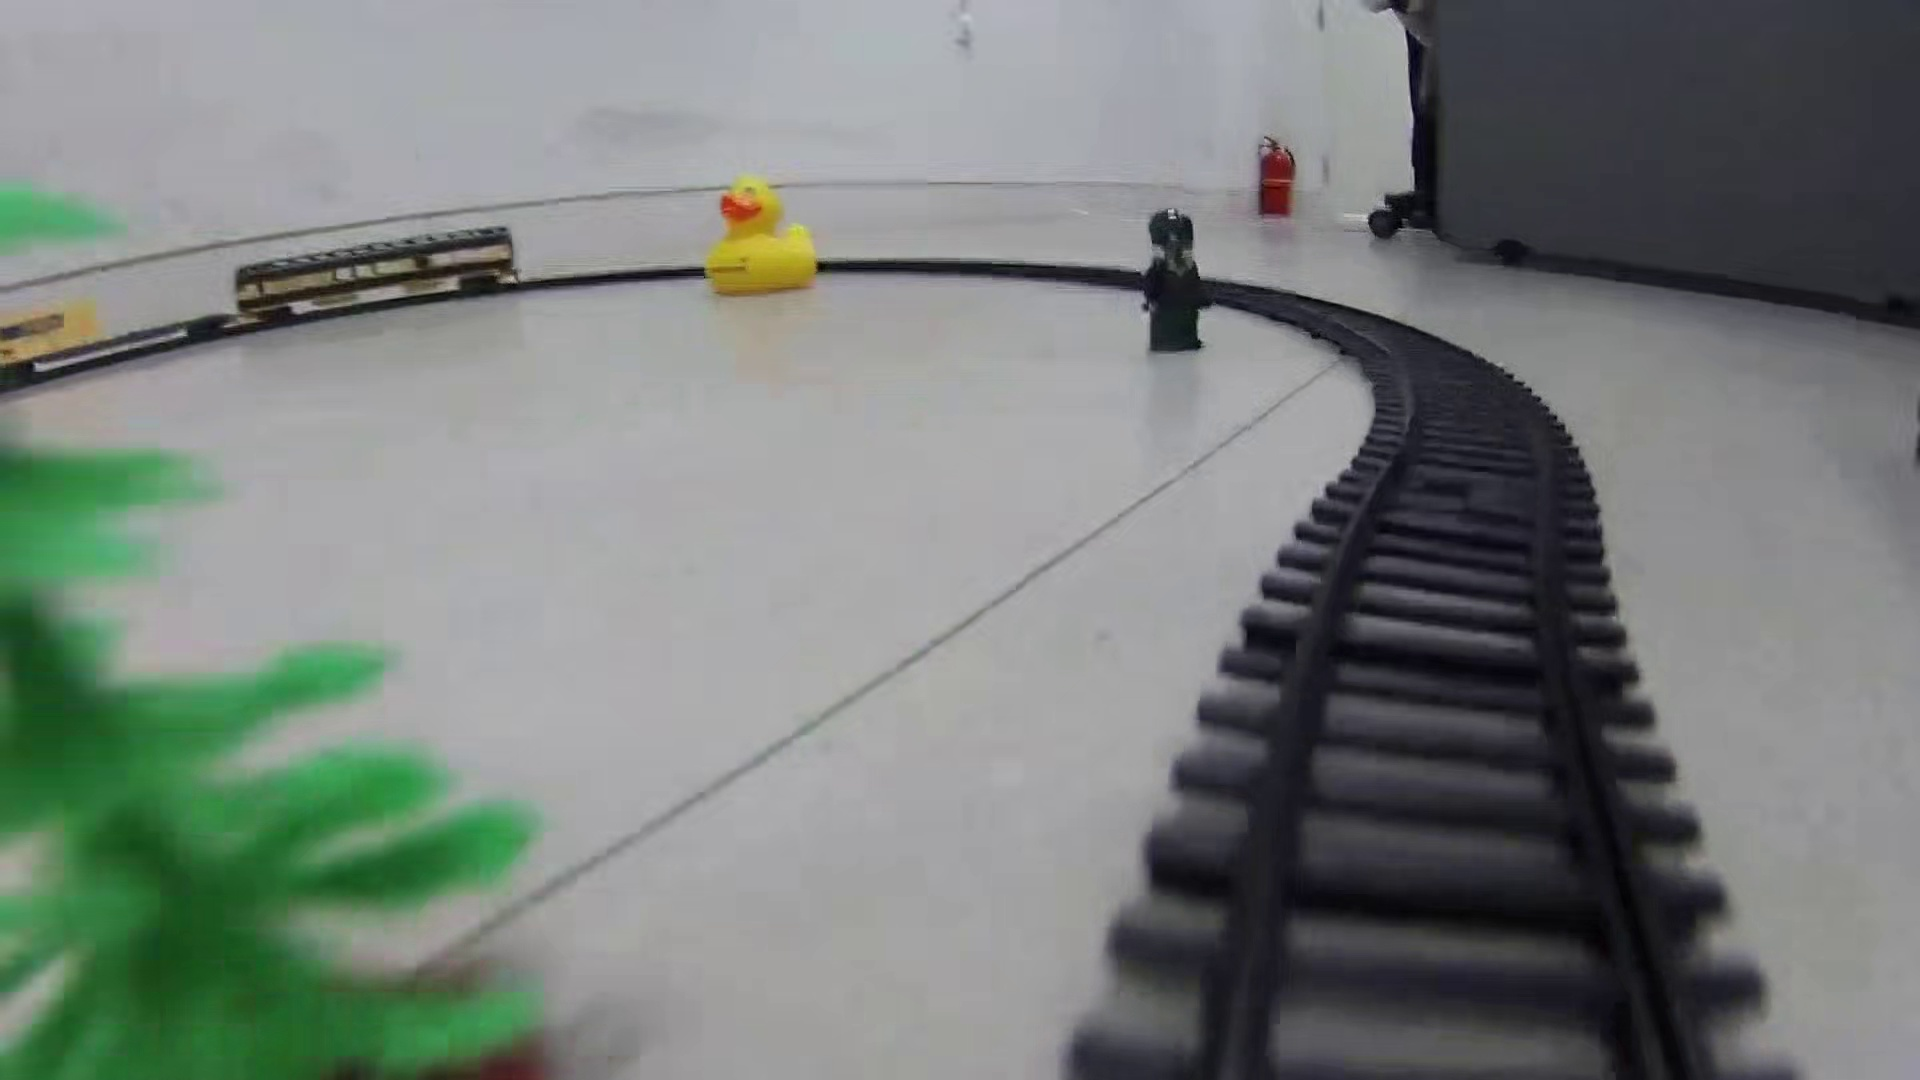people: (1136, 206, 1212, 361)
